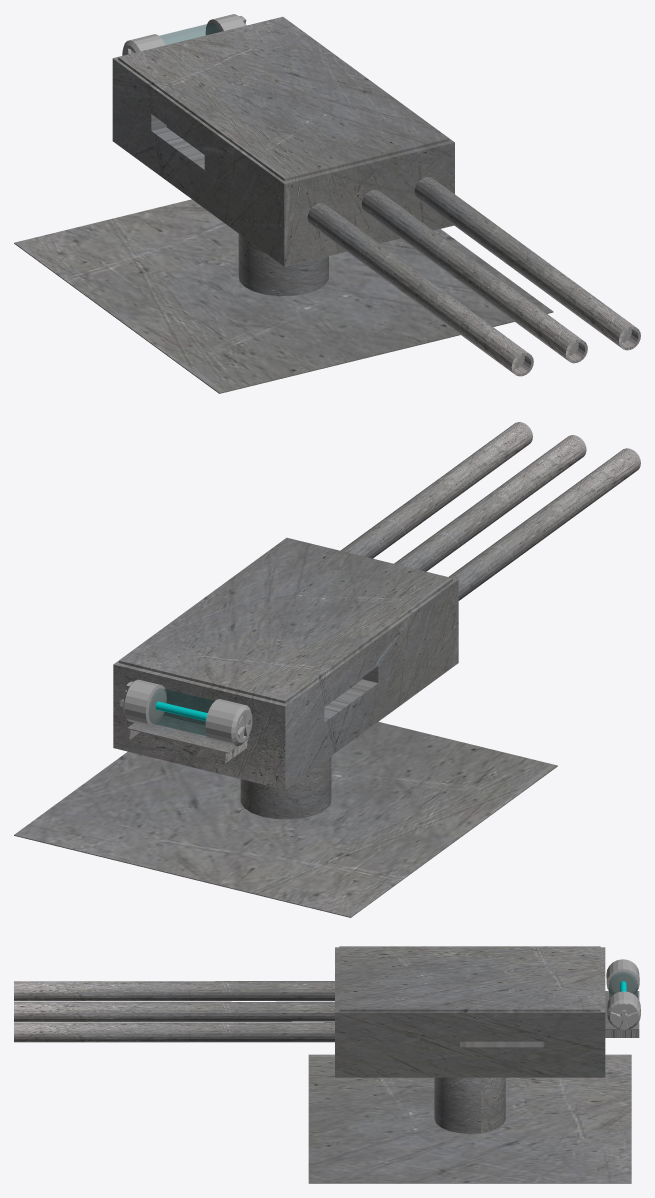
The model's file is turret_2_realigned_Point.fbx.
The picture shows the model from 3 angles, top to bottom: view 1: azimuth 30°, elevation 25°; view 2: azimuth 150°, elevation 25°; view 3: azimuth 270°, elevation 25°; orthographic projection. The views are drawn at different scales.
Parts seen in each view (by area): view 1: polySurface24, polySurface17; view 2: polySurface24, polySurface17; view 3: polySurface24, polySurface17.
Part boxes in pixels (<box>): polySurface24: <box>112,14,640,376</box>; polySurface17: <box>14,199,553,393</box>; polySurface24: <box>113,422,640,789</box>; polySurface17: <box>14,722,557,917</box>; polySurface24: <box>14,946,640,1077</box>; polySurface17: <box>308,1054,631,1183</box>.
Size of the model in its own units: 1.74 by 0.8969 by 3.6.
Materials: 4 (1 with a texture image).
